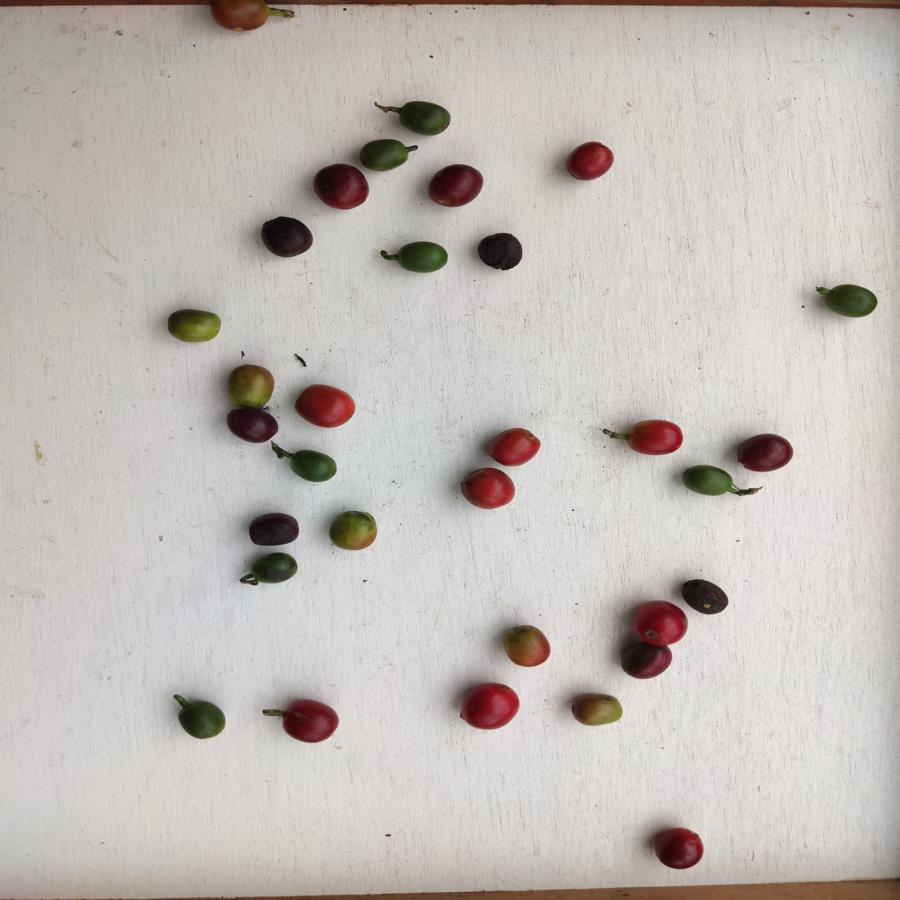Inmaduro: (815, 279, 881, 325), (171, 696, 227, 740), (398, 97, 450, 140), (285, 448, 341, 486), (680, 461, 735, 498), (246, 551, 302, 587), (358, 138, 411, 174), (394, 241, 450, 274)
Pinton: (292, 381, 358, 432), (455, 678, 519, 730), (278, 697, 341, 748), (485, 421, 544, 473), (163, 304, 226, 350), (631, 596, 688, 645), (326, 505, 380, 556), (619, 416, 684, 458), (458, 465, 518, 510), (208, 1, 271, 40), (565, 139, 615, 188), (567, 689, 627, 727), (226, 360, 275, 406), (503, 619, 549, 667)
Sobremaduro: (428, 158, 485, 210), (648, 824, 712, 870), (735, 430, 796, 476), (312, 162, 368, 211), (244, 512, 303, 550), (259, 218, 315, 258), (618, 643, 675, 682), (222, 408, 282, 444), (680, 576, 731, 617), (477, 232, 523, 273)
